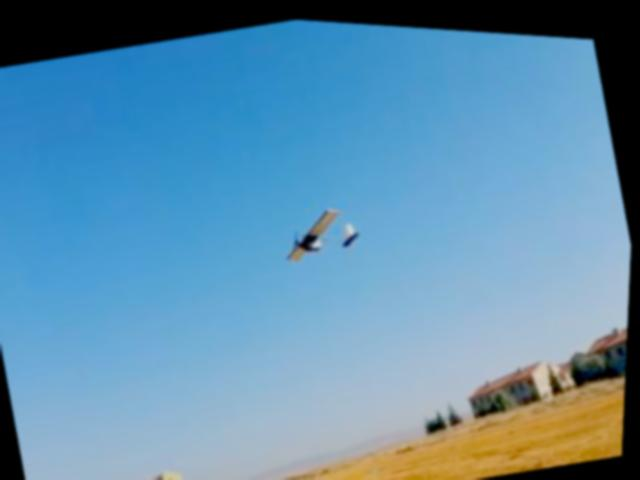uav: (274, 190, 370, 266)
